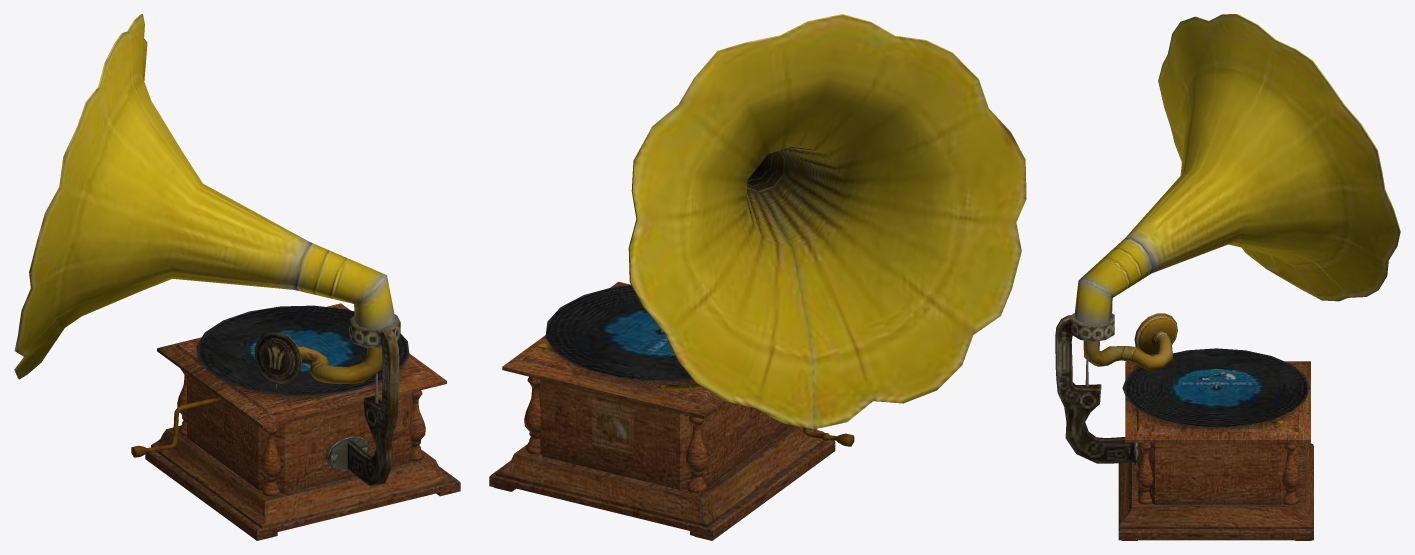
The model's file is record_player.glb.
The picture shows the model from 3 angles, left to right: view 1: azimuth 30°, elevation 25°; view 2: azimuth 150°, elevation 25°; view 3: azimuth 270°, elevation 25°; orthographic projection. The views are drawn at different scales.
Parts seen in each view (by area): view 1: body, record; view 2: body, record; view 3: body, record.
Part boxes in pixels (x1,y1,x2,y2): body: (14, 14, 460, 540); record: (196, 305, 409, 395); body: (489, 14, 1026, 540); record: (545, 285, 692, 381); body: (1055, 14, 1400, 540); record: (1122, 348, 1309, 427).
Bounding box in the file's own units: 0.6384 × 0.702 × 0.5372.
1 material, 1 textured.
